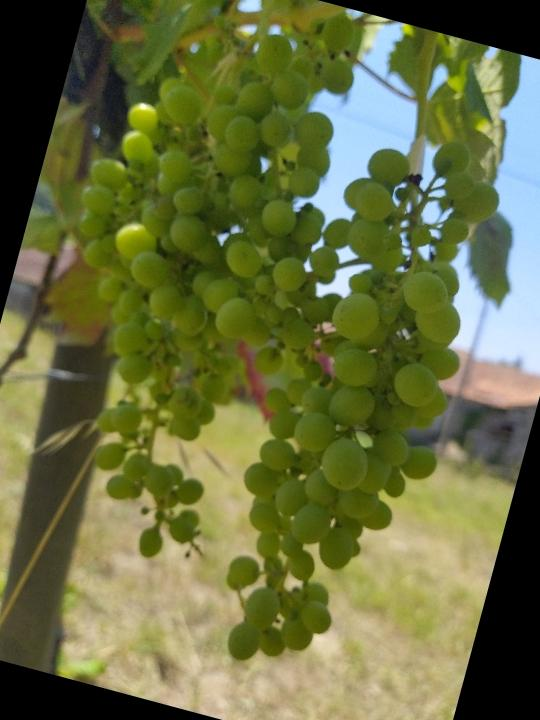grape: (0, 0, 377, 578), (195, 108, 520, 704)
